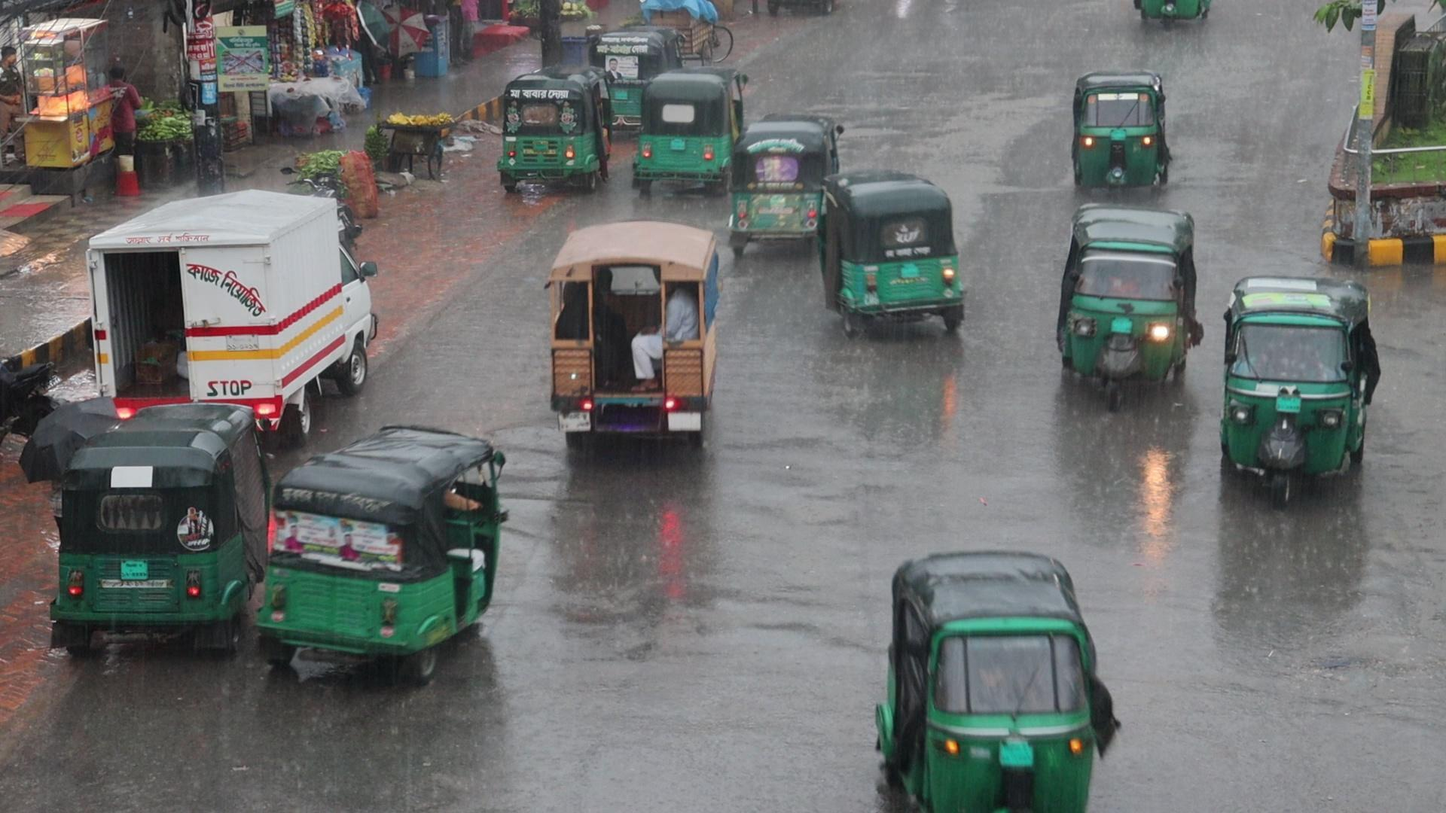Truck: (537, 217, 729, 465)
